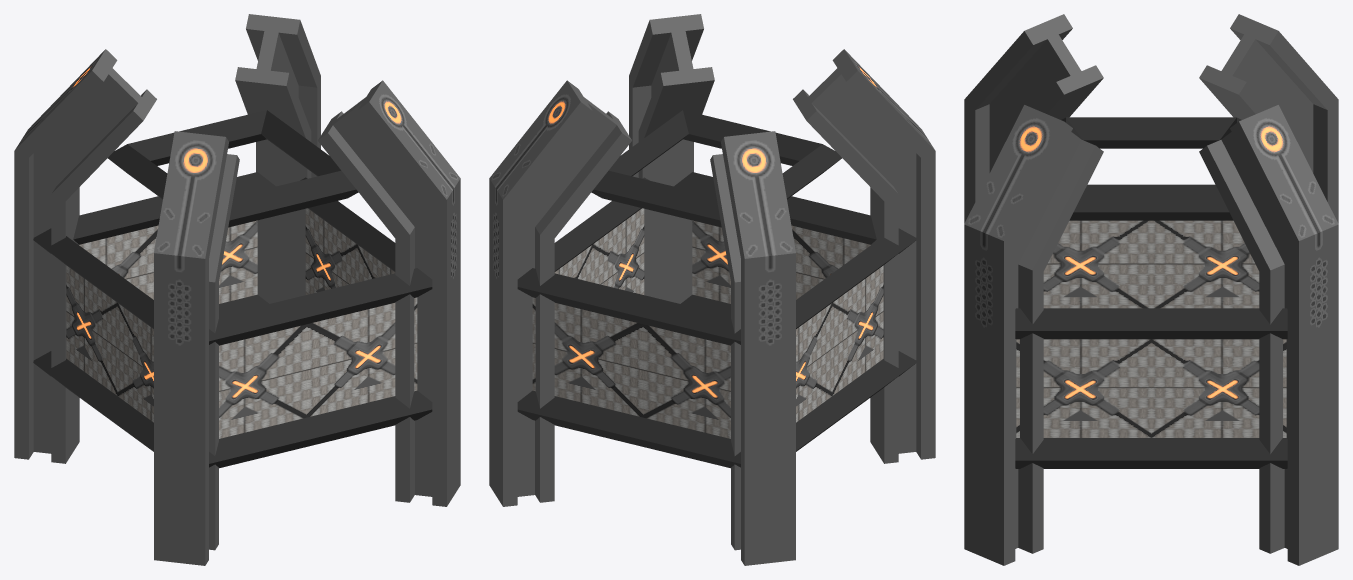
3 renders of one model, left to right at view 1: azimuth 30°, elevation 25°; view 2: azimuth 150°, elevation 25°; view 3: azimuth 270°, elevation 25°, orthographic. The views are drawn at different scales.
Visible parts, largest first — view 1: Plane.011; view 2: Plane.011; view 3: Plane.011.
Part boxes in pixels (x1,y1,x2,y2): Plane.011: (14,14,460,565); Plane.011: (489,14,935,565); Plane.011: (964,14,1338,565).
Size of the model in its own units: 10.45 by 12.9 by 10.45.
Materials: 1 (1 with a texture image).
